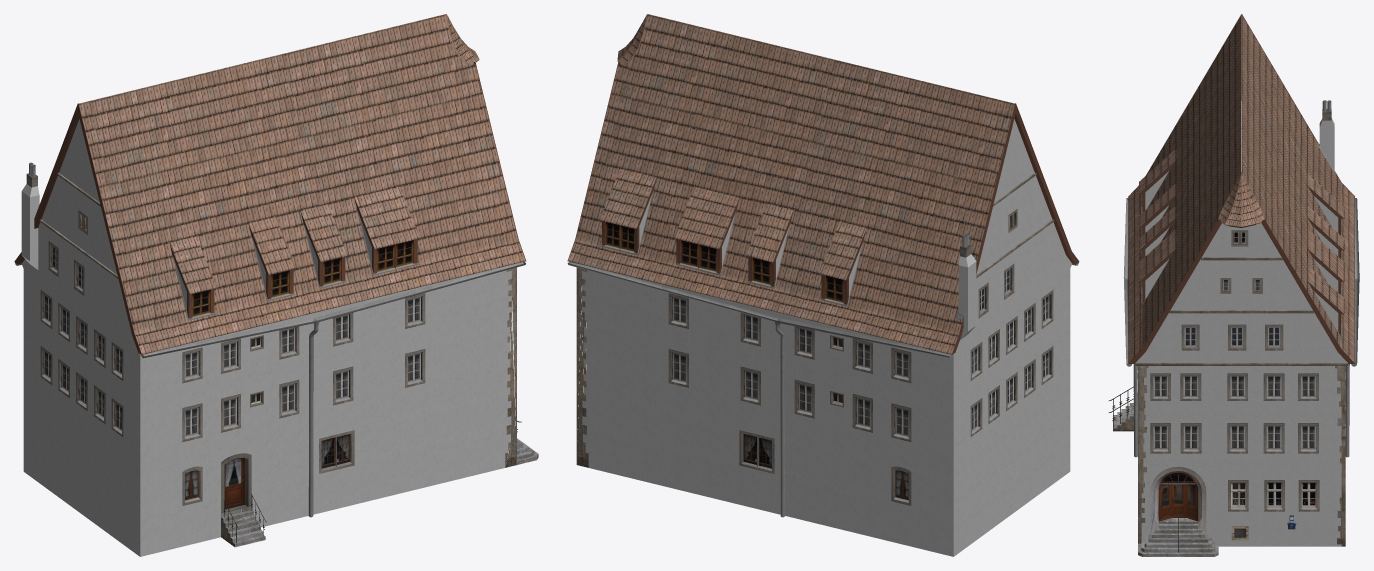
Rendered from mdl_wollo_rothenburg_5.gltf.
3 views of the same model, side by side, from view 1: azimuth 30°, elevation 25°; view 2: azimuth 150°, elevation 25°; view 3: azimuth 270°, elevation 25° (orthographic). The views are drawn at different scales.
Visible parts, largest first — view 1: Object_8, Object_2; view 2: Object_8, Object_2; view 3: Object_8, Object_2.
Boxes of the visible parts, x1,y1,x2,y2 form: Object_8: (14,14,538,556); Object_2: (15,215,525,543); Object_8: (567,14,1079,556); Object_2: (567,214,1078,517); Object_8: (1113,14,1354,556); Object_2: (1108,198,1359,552).
Size of the model in its own units: 21.45 by 20.47 by 12.7.
1 material, 1 textured.
